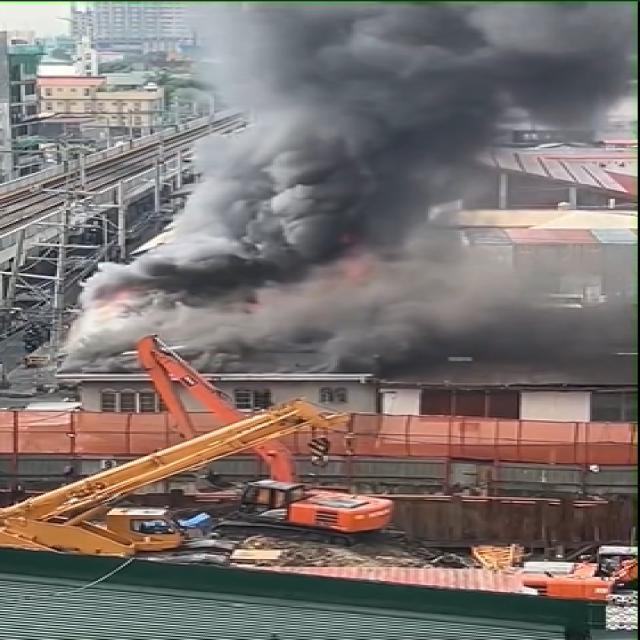Smoke: (71, 0, 632, 369)
